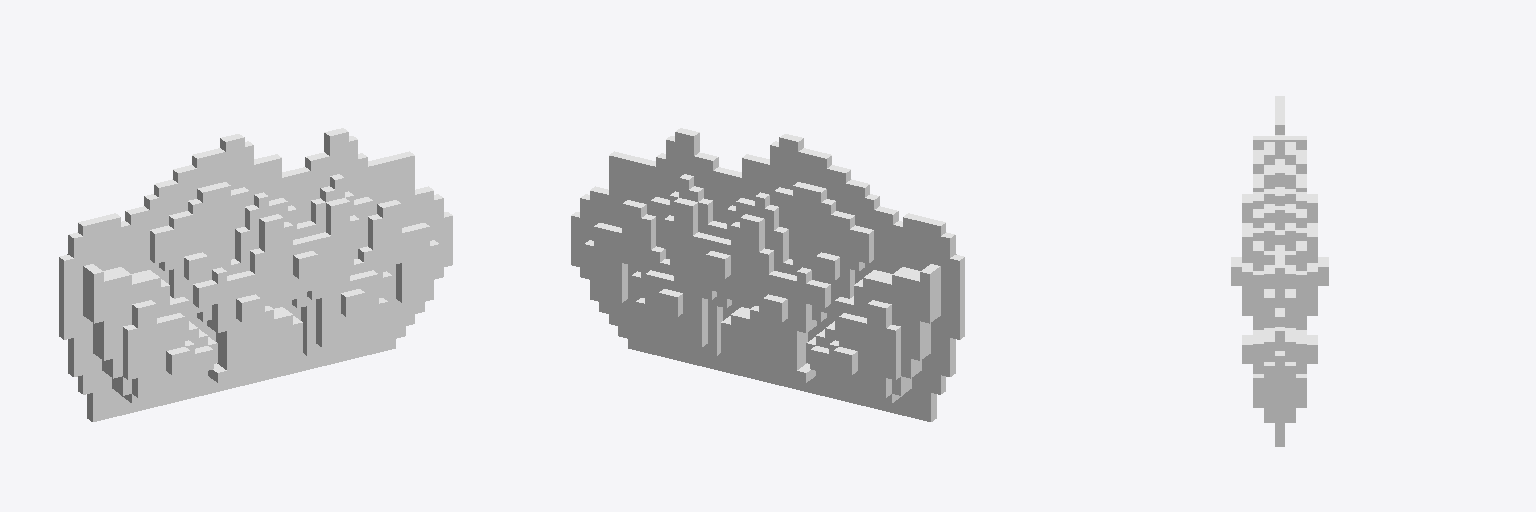
File: 3DBush.obj
3 views of the same model, side by side, from view 1: azimuth 30°, elevation 25°; view 2: azimuth 150°, elevation 25°; view 3: azimuth 270°, elevation 25° (orthographic).
Visible parts, largest first — view 1: Bush-1; view 2: Bush-1; view 3: Bush-1.
Part boxes in pixels (left/top/right/bottom): Bush-1: left=59, top=128, right=452, bottom=421; Bush-1: left=571, top=128, right=964, bottom=421; Bush-1: left=1231, top=96, right=1328, bottom=446.
Bounding box in the file's own units: 4.1 × 2.5 × 0.9.